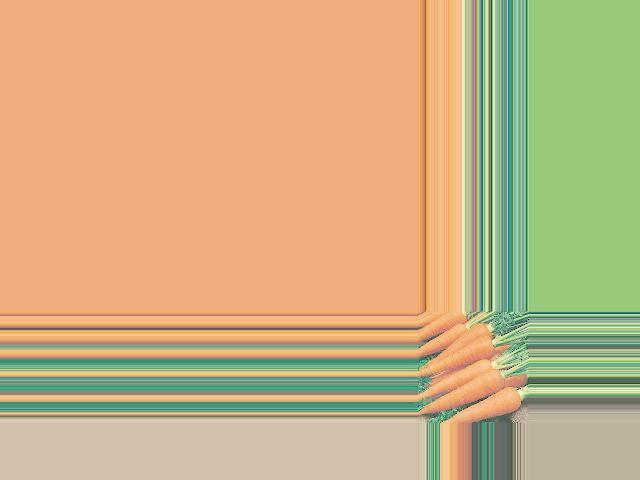carrot: (419, 319, 473, 353)
